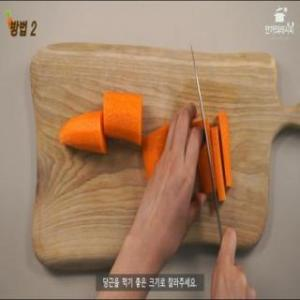carrot: (102, 86, 143, 144), (58, 110, 104, 158)
